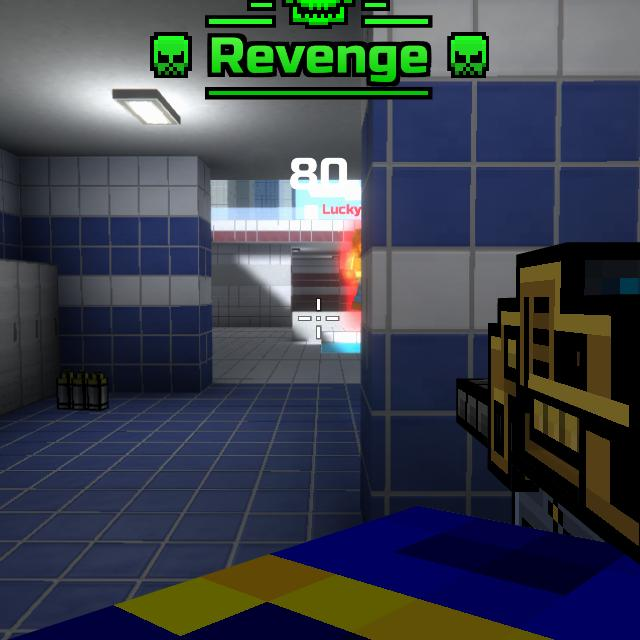Enemy: (351, 228, 361, 311)
